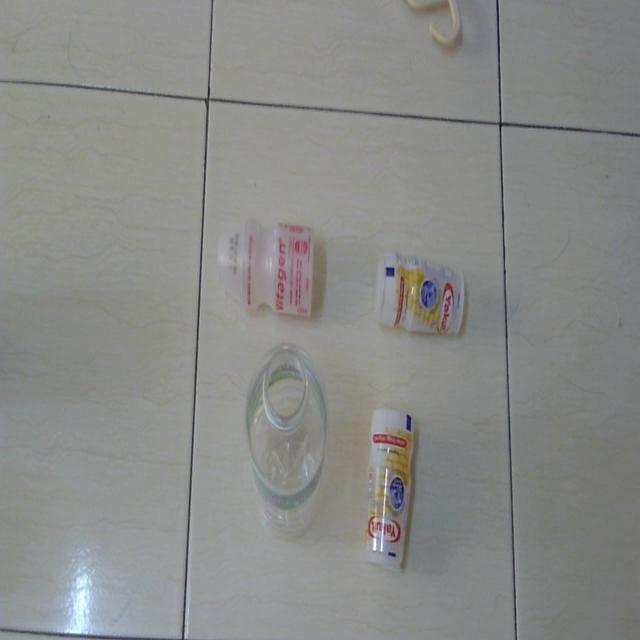plastic_laydown_0rotation: (214, 209, 318, 325), (373, 240, 470, 349)
plastic_laydown_90rotation: (361, 401, 418, 575)
plastic_standrotation: (245, 336, 332, 542)
